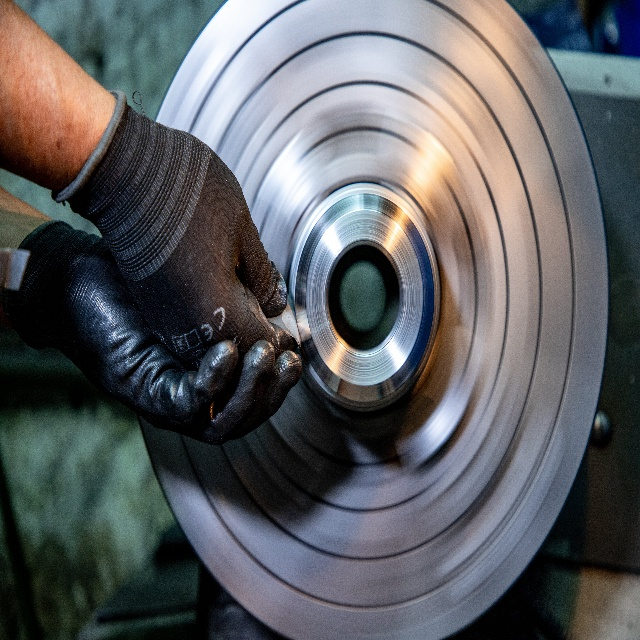Guantes: (11, 201, 303, 444), (48, 91, 297, 364)
